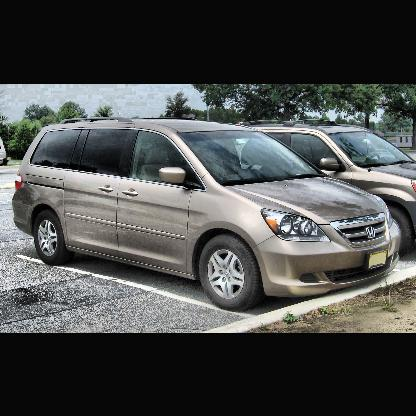Honda Odyssey Minivan 2007: (10, 113, 405, 313)
